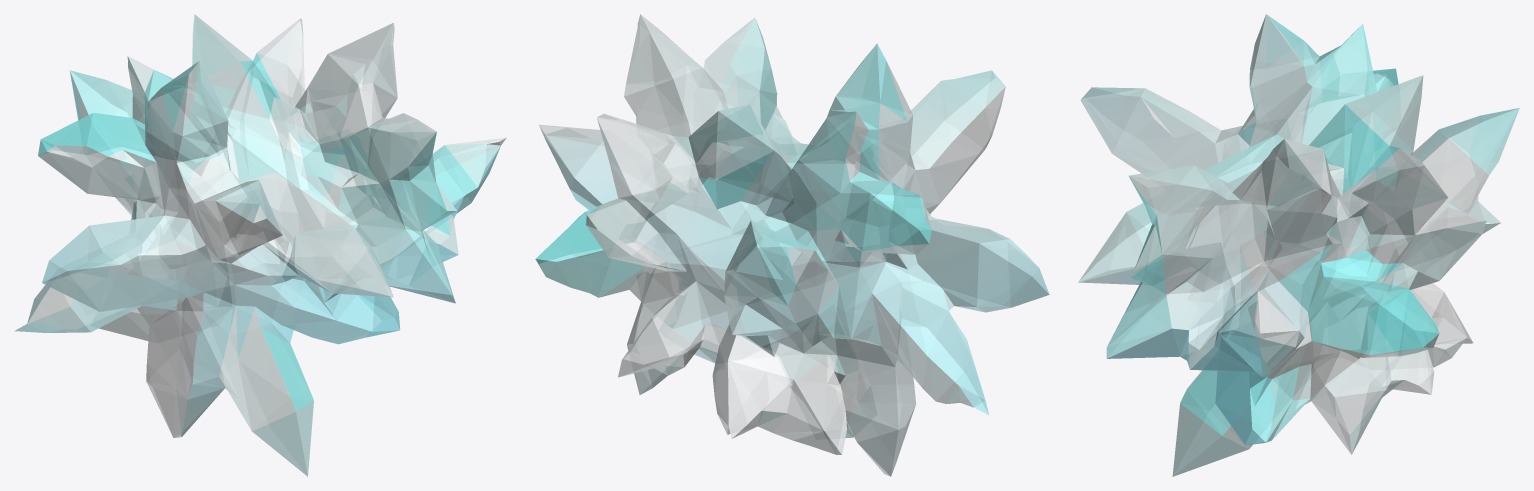
File: VoidDiamond_Extractable2.glb
3 renders of one model, left to right at view 1: azimuth 30°, elevation 25°; view 2: azimuth 150°, elevation 25°; view 3: azimuth 270°, elevation 25°, orthographic. The views are drawn at different scales.
Visible parts, largest first — view 1: Extractable 2; view 2: Extractable 2; view 3: Extractable 2.
Part boxes in pixels (x1,y1,x2,y2): Extractable 2: (14, 14, 506, 476); Extractable 2: (535, 14, 1049, 476); Extractable 2: (1078, 14, 1519, 476).
Bounding box in the file's own units: 1.7 × 1.41 × 1.32.
Materials: 1 (1 with a texture image).
